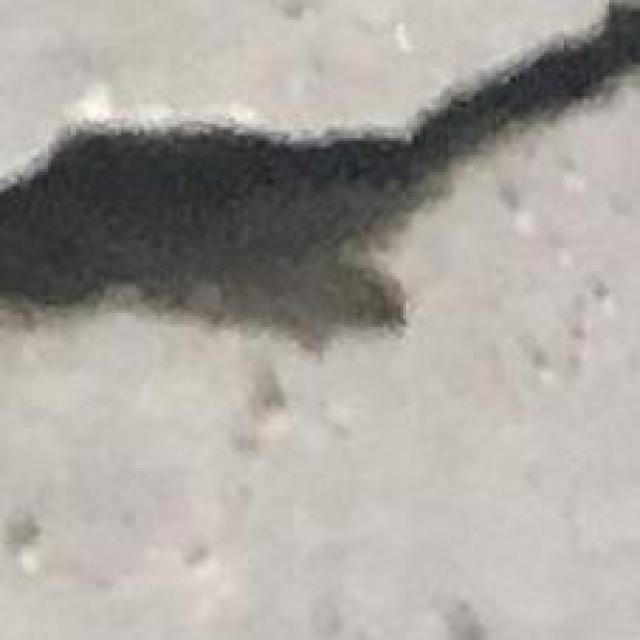diagonal crack: (0, 6, 639, 343)
